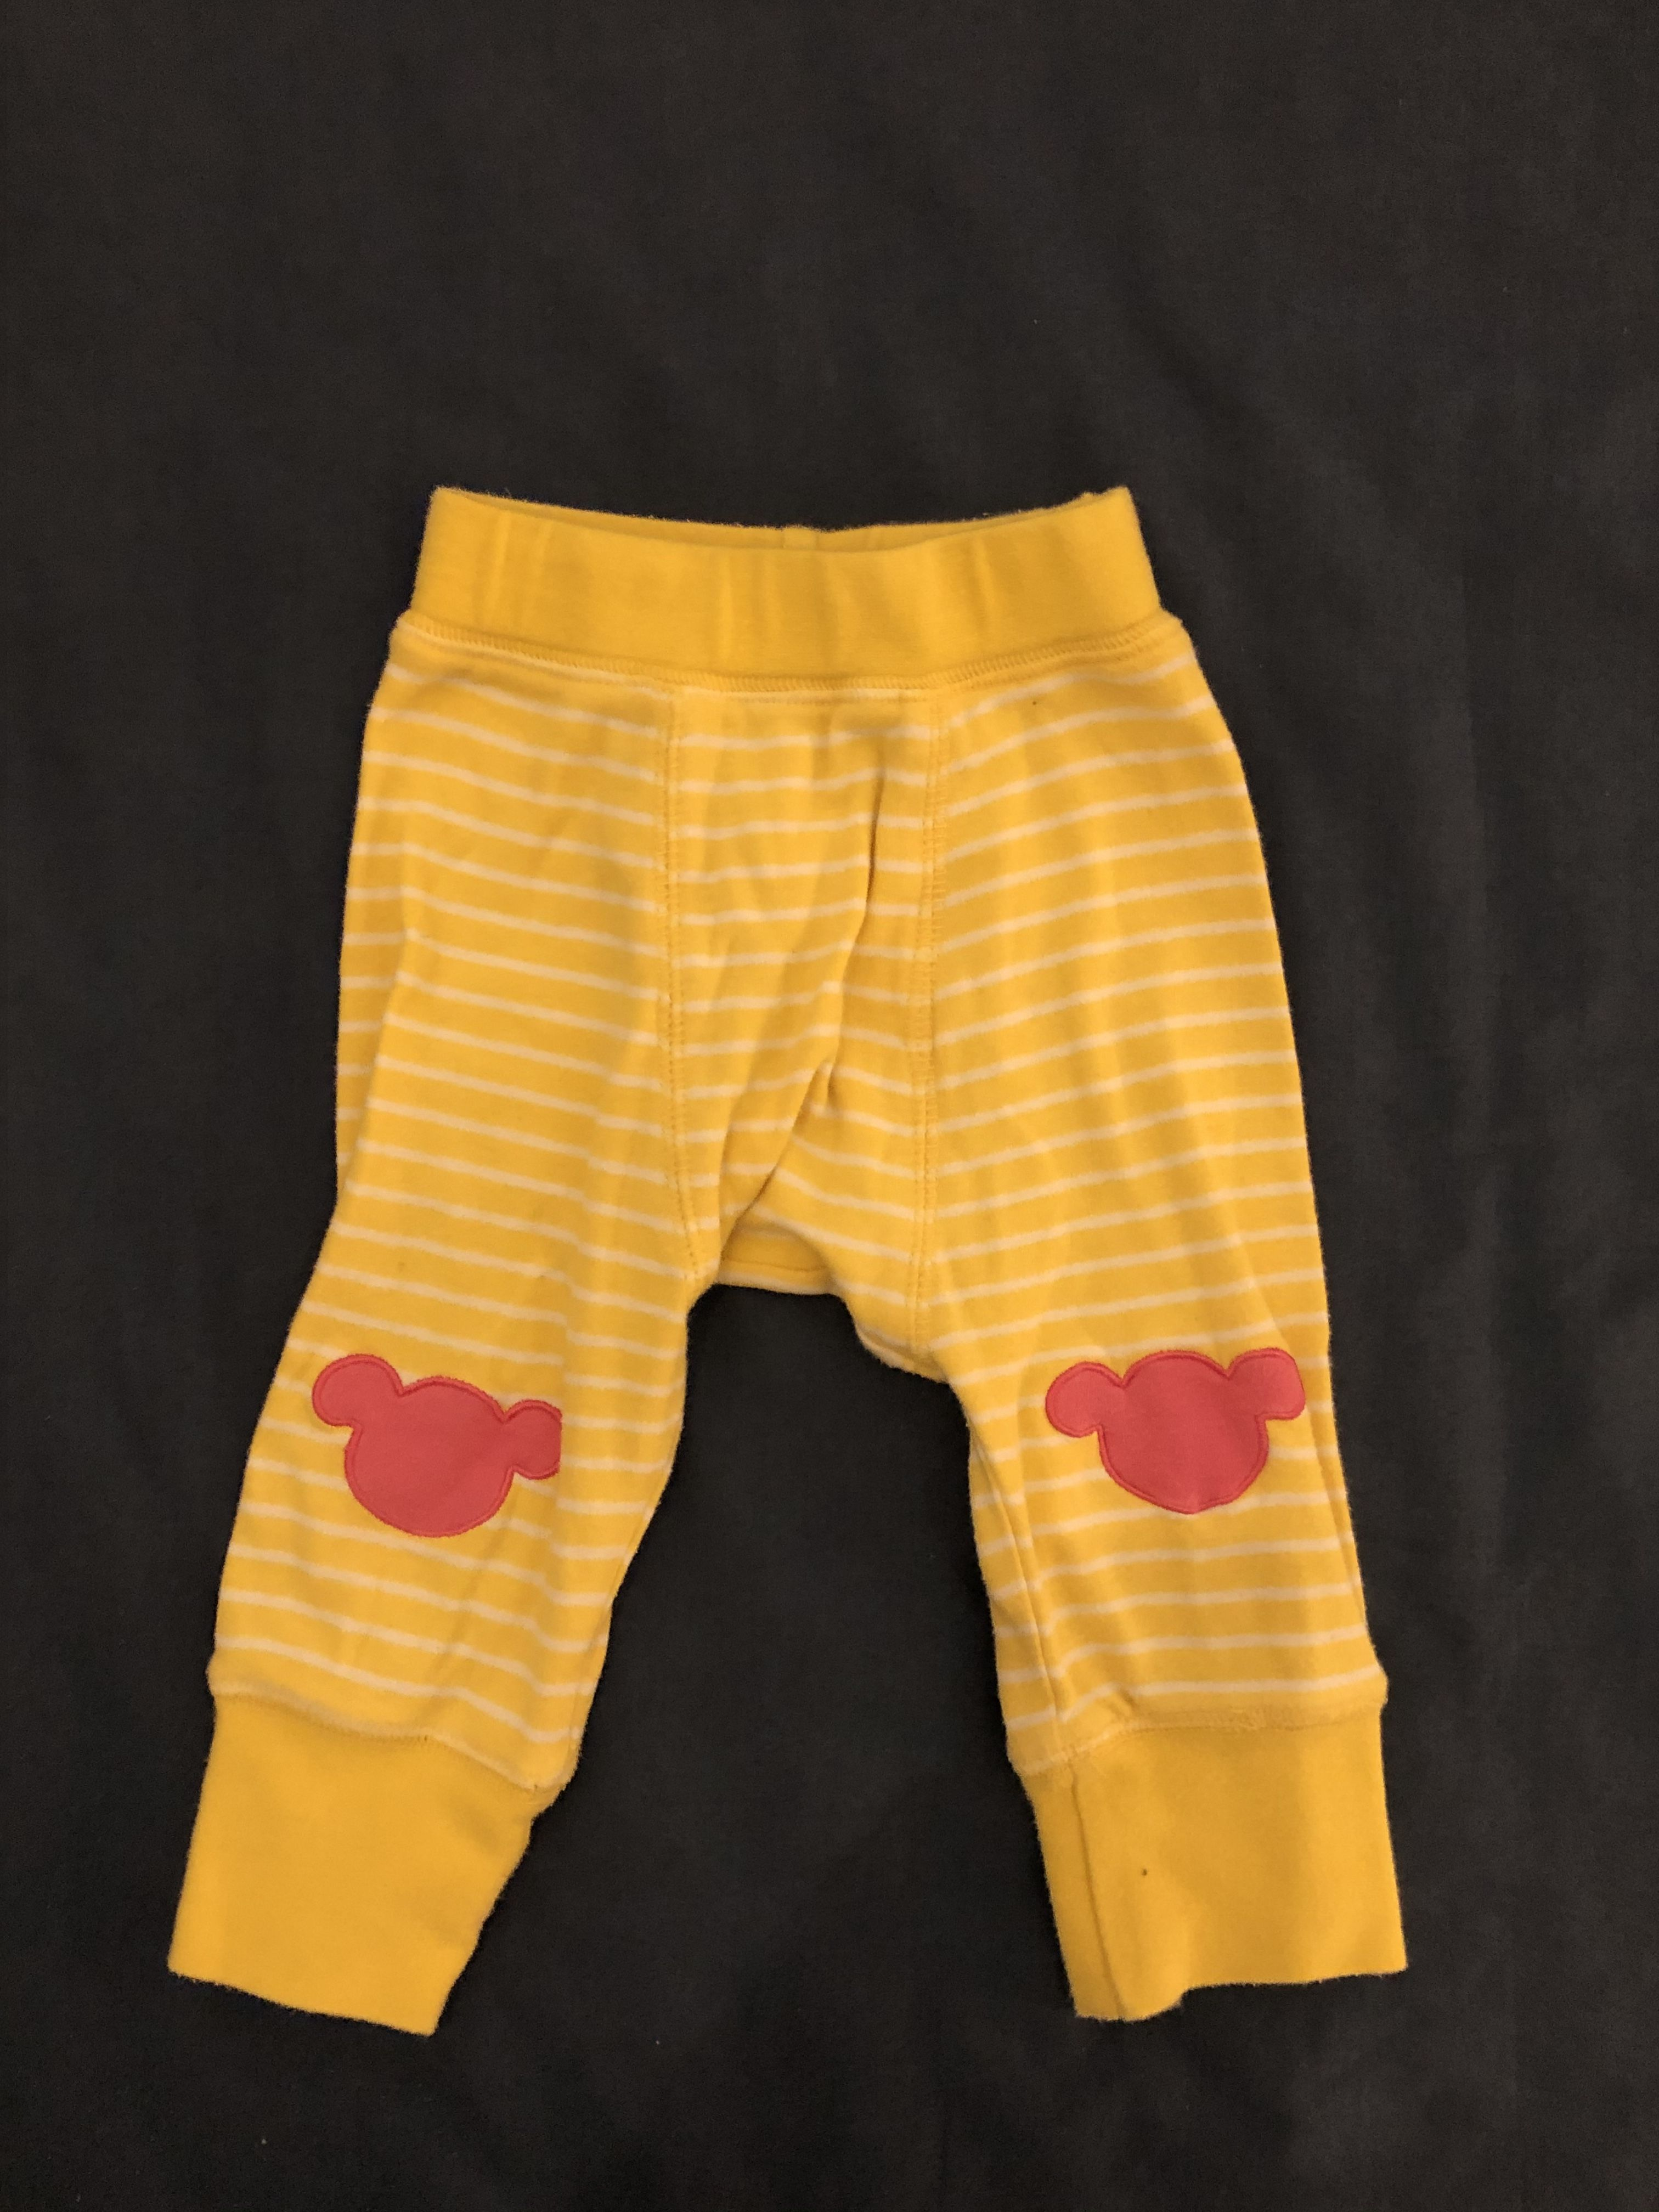clothes: (148, 482, 1424, 2057)
